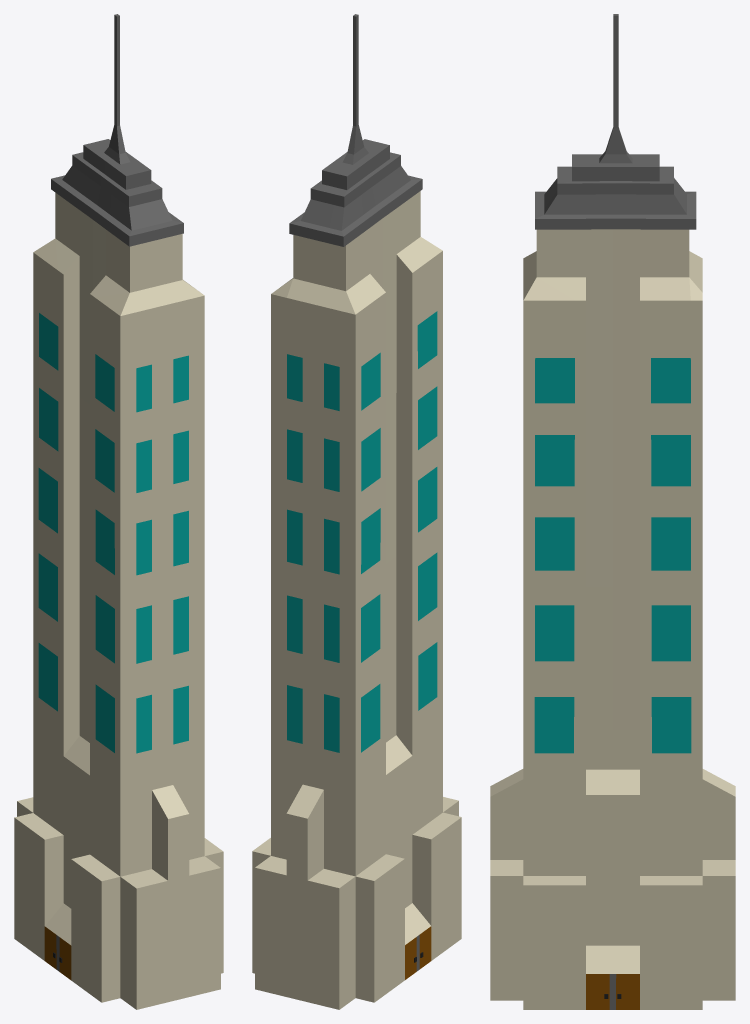
The model's file is Skycraper.FBX.
The picture shows the model from 3 angles, left to right: view 1: azimuth 30°, elevation 25°; view 2: azimuth 150°, elevation 25°; view 3: azimuth 270°, elevation 25°; orthographic projection. The views are drawn at different scales.
Visible parts, largest first — view 1: Skycrasper; view 2: Skycrasper; view 3: Skycrasper.
Part boxes in pixels (box(x1,y1,x2,y2)): Skycrasper: box(14, 14, 223, 1009); Skycrasper: box(252, 14, 461, 1009); Skycrasper: box(490, 14, 735, 1009).
Bounding box in the file's own units: 275 × 1996 × 460.
